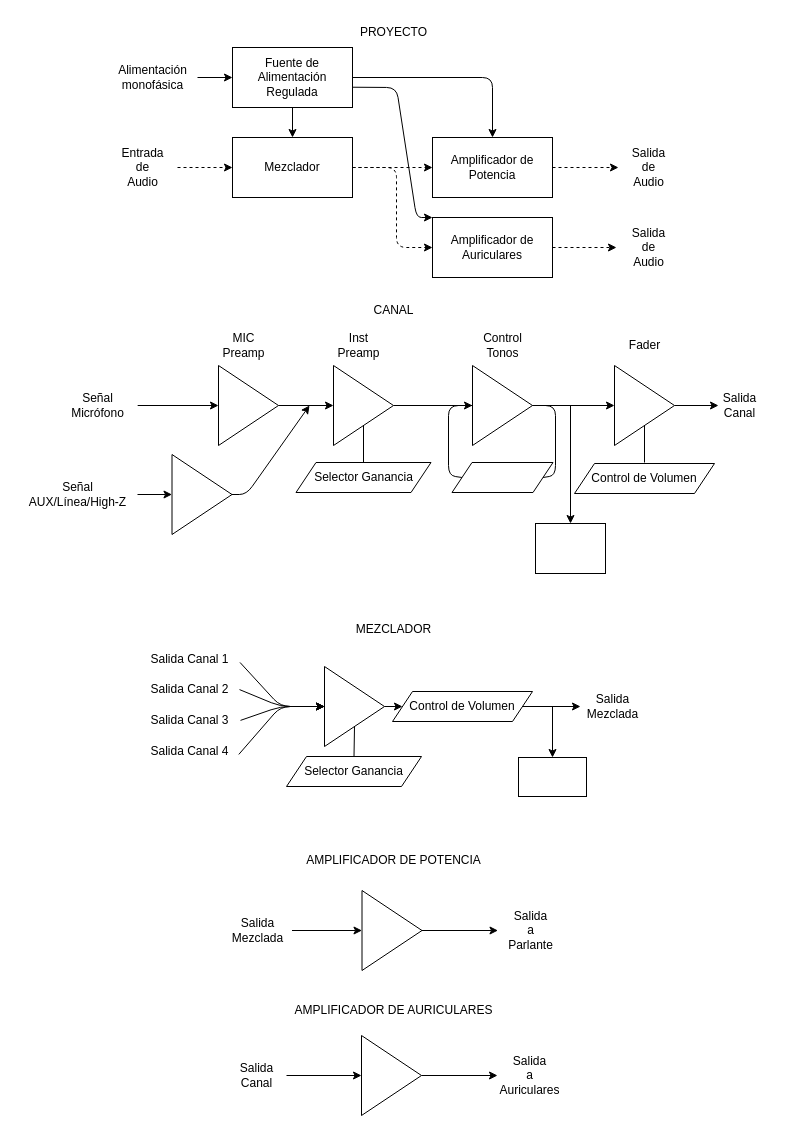
This 786x1133 diagram has some shape labels left out. Each missing label, with the centre of its shape:
Buffer: (x=201, y=494)
Detector de Picos: (x=570, y=548)
Ecualizador: (x=502, y=477)
VU Meter: (x=552, y=776)
